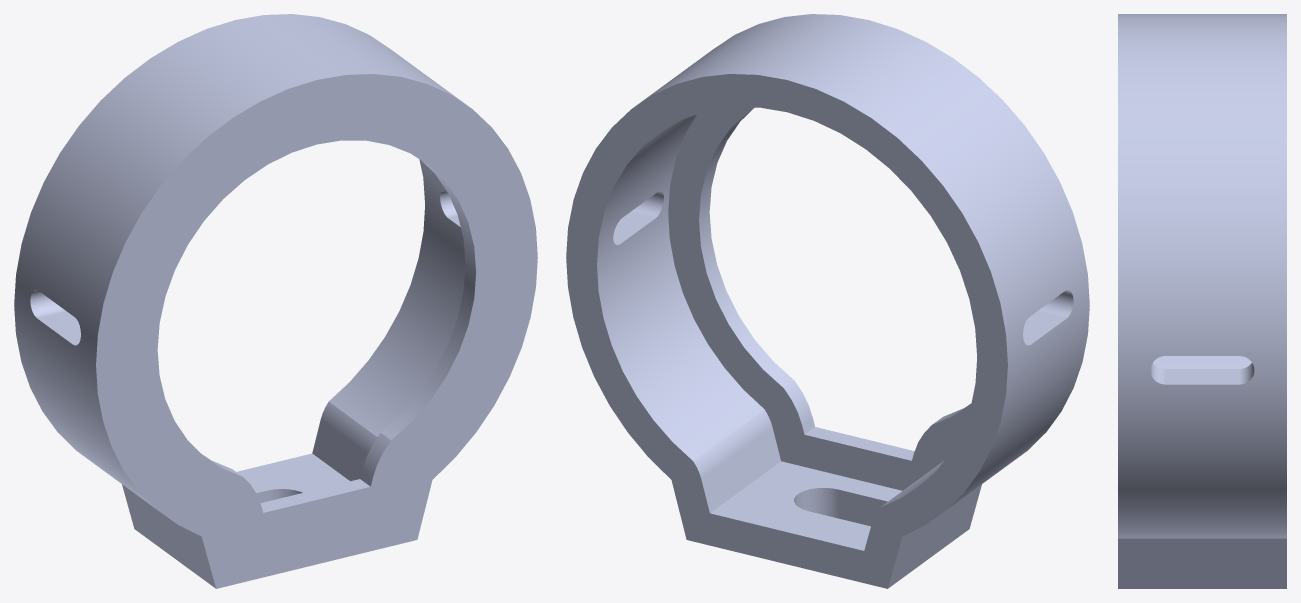
File: pantallaCover.glb
The picture shows the model from 3 angles, left to right: view 1: azimuth 30°, elevation 25°; view 2: azimuth 150°, elevation 25°; view 3: azimuth 270°, elevation 25°; orthographic projection. The views are drawn at different scales.
Parts seen in each view (by area): view 1: pantallaCover; view 2: pantallaCover; view 3: pantallaCover.
Boxes of the visible parts, box(x1,y1,x2,y2) form: pantallaCover: box(14, 14, 537, 588); pantallaCover: box(566, 14, 1089, 588); pantallaCover: box(1118, 14, 1286, 588).
Size of the model in its own units: 0.043 by 0.0451 by 0.0138.
